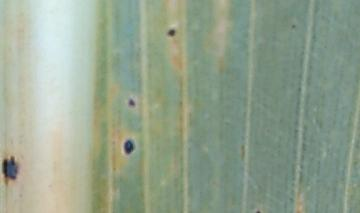tarspot: (2, 156, 18, 181), (122, 138, 136, 155), (127, 97, 138, 108), (167, 27, 177, 37), (290, 22, 297, 29), (255, 209, 262, 213)
